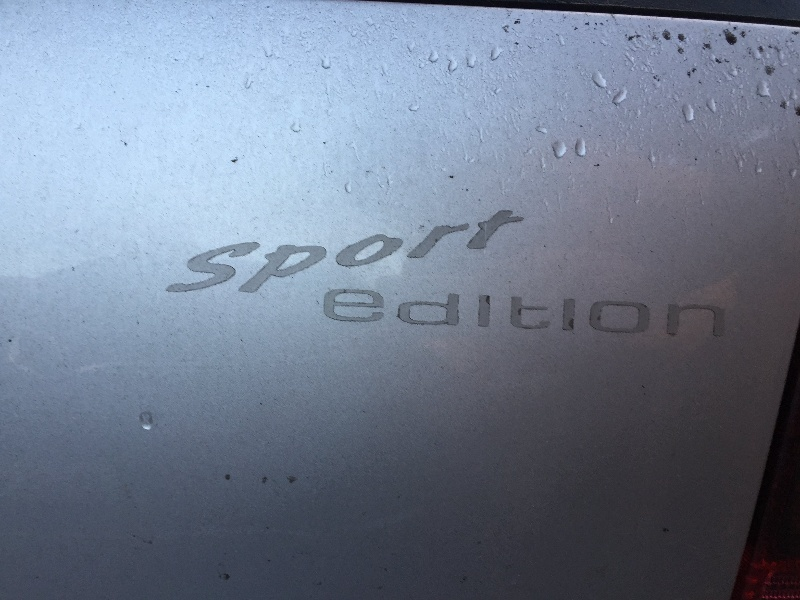text: (209, 206, 224, 313), (225, 206, 240, 313), (241, 206, 256, 313), (257, 206, 272, 313), (273, 206, 288, 313), (289, 206, 304, 313), (305, 206, 320, 313), (321, 206, 336, 313), (337, 206, 352, 313), (353, 206, 368, 313), (369, 206, 384, 313), (385, 206, 400, 313), (401, 206, 416, 313), (417, 206, 432, 313), (433, 206, 448, 313), (449, 206, 464, 313), (465, 206, 480, 313), (481, 206, 496, 313), (497, 206, 512, 313), (513, 206, 528, 313), (529, 206, 544, 313), (198, 206, 208, 313), (337, 286, 352, 342), (353, 286, 368, 342), (369, 286, 384, 342), (385, 286, 400, 342), (401, 286, 416, 342), (417, 286, 432, 342), (433, 286, 448, 342), (449, 286, 464, 342), (465, 286, 480, 342), (481, 286, 496, 342), (497, 286, 512, 342), (513, 286, 528, 342), (529, 286, 544, 342), (545, 286, 560, 342), (561, 286, 576, 342), (577, 286, 592, 342), (593, 286, 608, 342), (609, 286, 624, 342), (625, 286, 640, 342), (641, 286, 656, 342), (657, 286, 672, 342), (673, 286, 688, 342), (689, 286, 704, 342), (705, 286, 720, 342), (324, 286, 336, 342), (721, 286, 728, 342)
